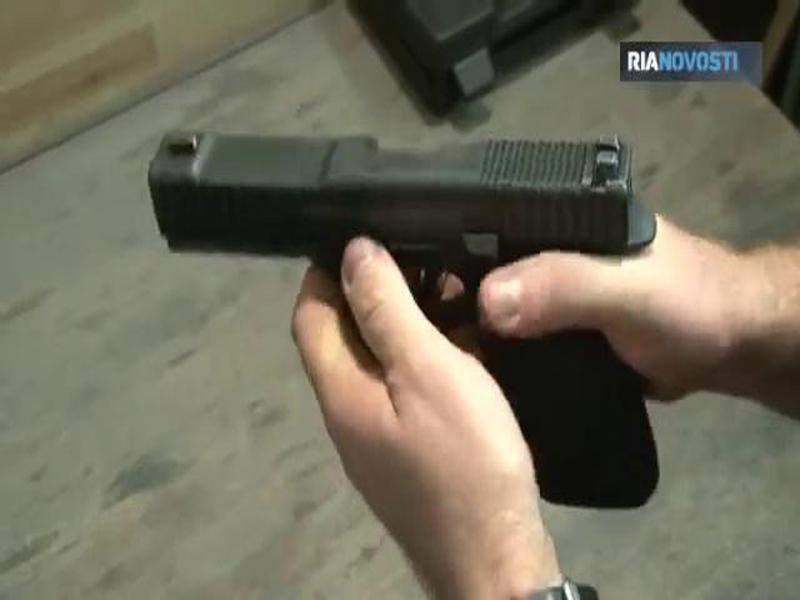Pistola: (144, 103, 685, 515)
